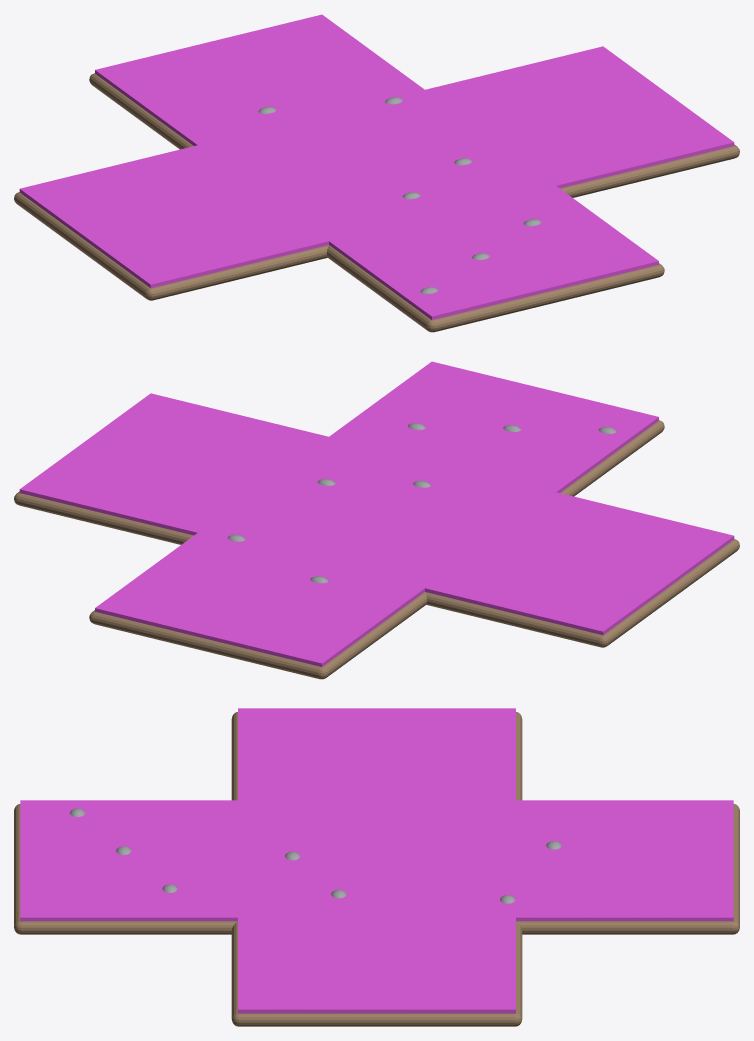
File: forest_path_dirt_junction_lod0_v1.glb
3 renders of one model, top to bottom at view 1: azimuth 30°, elevation 25°; view 2: azimuth 150°, elevation 25°; view 3: azimuth 270°, elevation 25°, orthographic. The views are drawn at different scales.
Visible parts, largest first — view 1: NAV_MASK_FOREST_PATH_DIRT_JUNCTION_EW, NAV_MASK_FOREST_PATH_DIRT_JUNCTION_NS, LOD0_FOREST_PATH_DIRT_JUNCTION_EW, LOD0_FOREST_PATH_DIRT_JUNCTION_NS; view 2: NAV_MASK_FOREST_PATH_DIRT_JUNCTION_EW, NAV_MASK_FOREST_PATH_DIRT_JUNCTION_NS, LOD0_FOREST_PATH_DIRT_JUNCTION_EW, LOD0_FOREST_PATH_DIRT_JUNCTION_NS; view 3: NAV_MASK_FOREST_PATH_DIRT_JUNCTION_NS, NAV_MASK_FOREST_PATH_DIRT_JUNCTION_EW, LOD0_FOREST_PATH_DIRT_JUNCTION_NS, LOD0_FOREST_PATH_DIRT_JUNCTION_EW.
Part boxes in pixels (left/top/right/bottom): NAV_MASK_FOREST_PATH_DIRT_JUNCTION_EW: left=19, top=46, right=734, bottom=288; NAV_MASK_FOREST_PATH_DIRT_JUNCTION_NS: left=95, top=14, right=658, bottom=319; LOD0_FOREST_PATH_DIRT_JUNCTION_EW: left=14, top=144, right=739, bottom=300; LOD0_FOREST_PATH_DIRT_JUNCTION_NS: left=89, top=73, right=664, bottom=332; NAV_MASK_FOREST_PATH_DIRT_JUNCTION_EW: left=19, top=393, right=734, bottom=635; NAV_MASK_FOREST_PATH_DIRT_JUNCTION_NS: left=95, top=361, right=658, bottom=666; LOD0_FOREST_PATH_DIRT_JUNCTION_EW: left=14, top=491, right=739, bottom=647; LOD0_FOREST_PATH_DIRT_JUNCTION_NS: left=89, top=420, right=664, bottom=679; NAV_MASK_FOREST_PATH_DIRT_JUNCTION_NS: left=20, top=800, right=733, bottom=921; NAV_MASK_FOREST_PATH_DIRT_JUNCTION_EW: left=238, top=708, right=515, bottom=1013; LOD0_FOREST_PATH_DIRT_JUNCTION_NS: left=14, top=804, right=739, bottom=934; LOD0_FOREST_PATH_DIRT_JUNCTION_EW: left=231, top=712, right=522, bottom=1026.
Size of what is drawn, in the model's own units: 8 by 0.24 by 8.
